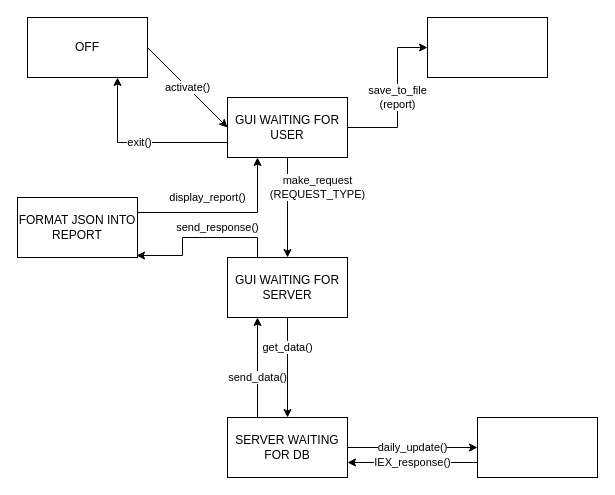
This 615x495 diagram has some shape labels left out. Each missing label, with the centre of its shape:
FILE SYSTEM: the point at 487,47
IEX SERVER: the point at 537,447
